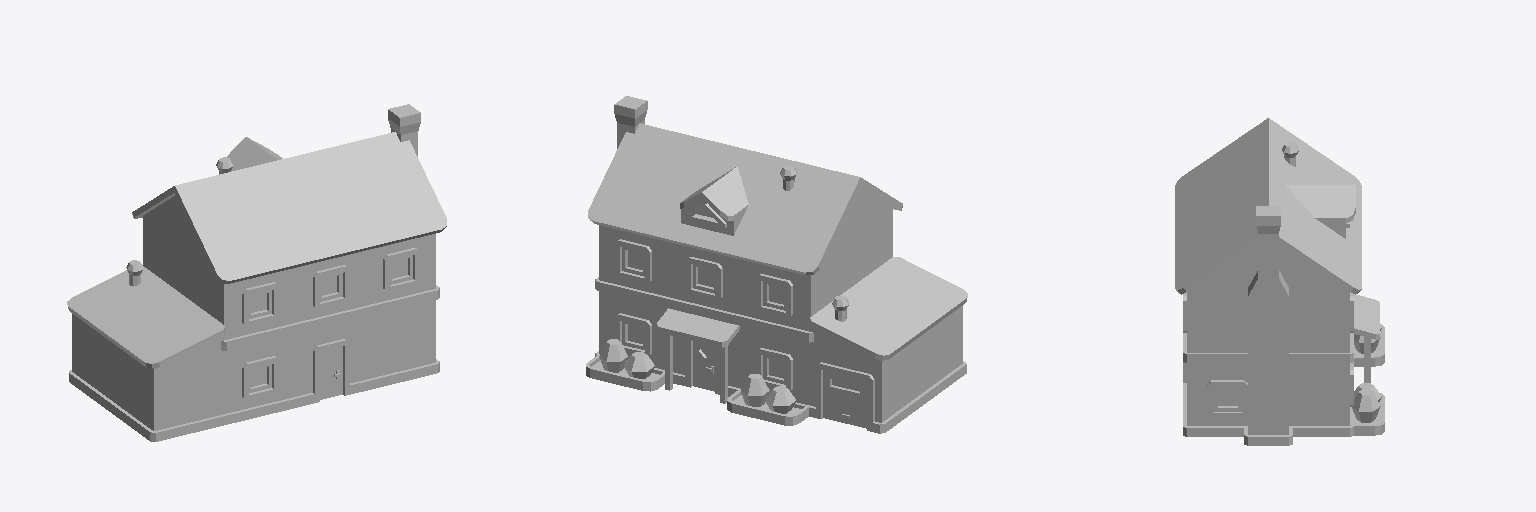
Rendered from suburban_building-type-d.obj.
3 views of the same model, side by side, from view 1: azimuth 30°, elevation 25°; view 2: azimuth 150°, elevation 25°; view 3: azimuth 270°, elevation 25° (orthographic).
Parts seen in each view (by area): view 1: building-type-d; view 2: building-type-d; view 3: building-type-d.
Boxes of the visible parts, <box> form: building-type-d: <box>67,104,446,441</box>; building-type-d: <box>586,96,967,433</box>; building-type-d: <box>1175,118,1384,445</box>.
Size of the model in its own units: 1.76 by 1.24 by 1.03.